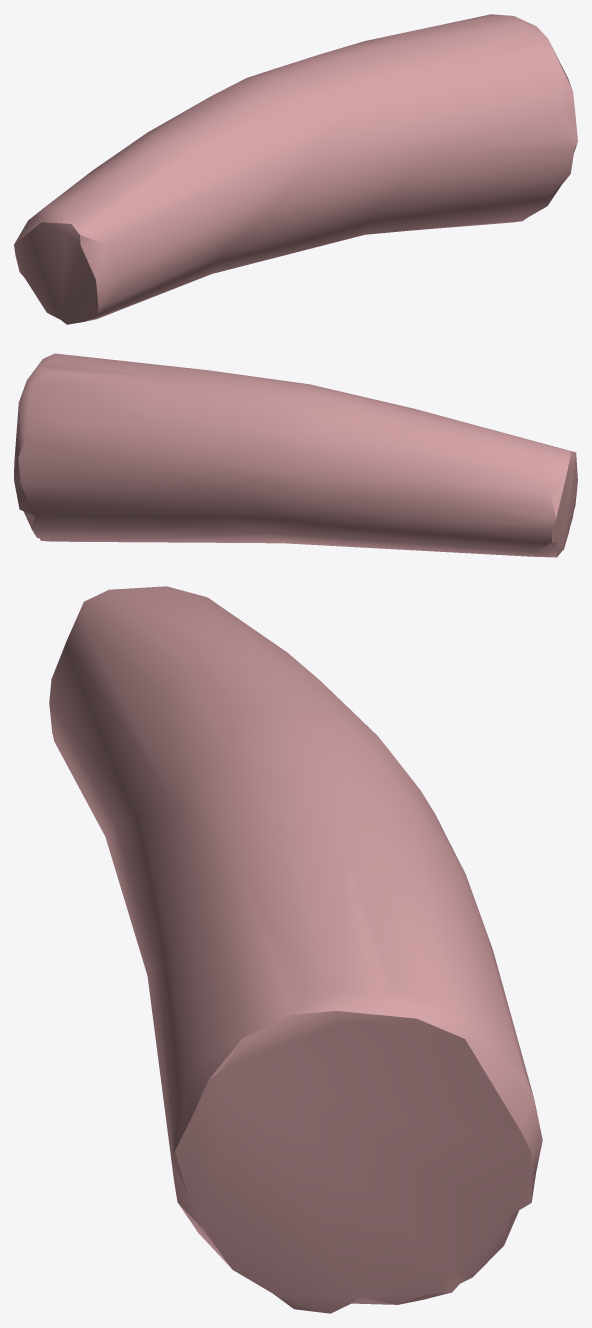
Rendered from fma68216_fj2497.glb.
3 renders of one model, top to bottom at view 1: azimuth 30°, elevation 25°; view 2: azimuth 150°, elevation 25°; view 3: azimuth 270°, elevation 25°, orthographic. The views are drawn at different scales.
Visible parts, largest first — view 1: FMA68216_FJ2497; view 2: FMA68216_FJ2497; view 3: FMA68216_FJ2497.
Part boxes in pixels (bbox=[...]): FMA68216_FJ2497: bbox=[14, 14, 577, 324]; FMA68216_FJ2497: bbox=[14, 353, 577, 557]; FMA68216_FJ2497: bbox=[49, 586, 542, 1313].
Size of the model in its own units: 0.0105 by 0.00373 by 0.00457.
